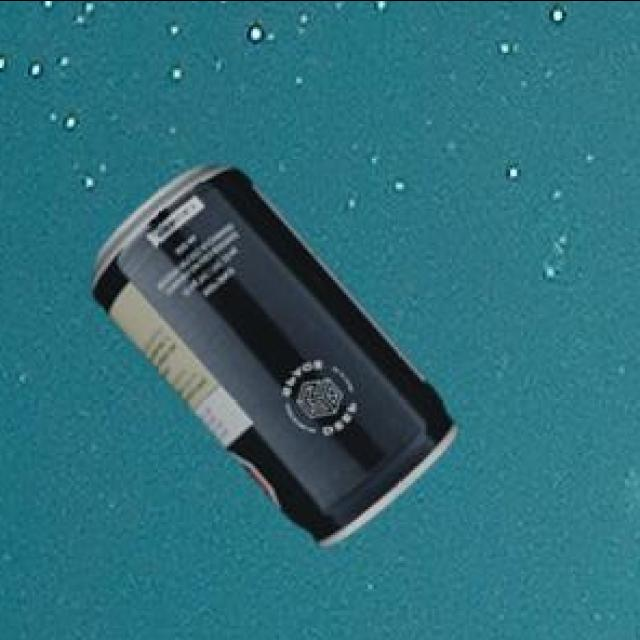logam: (94, 168, 462, 548)
